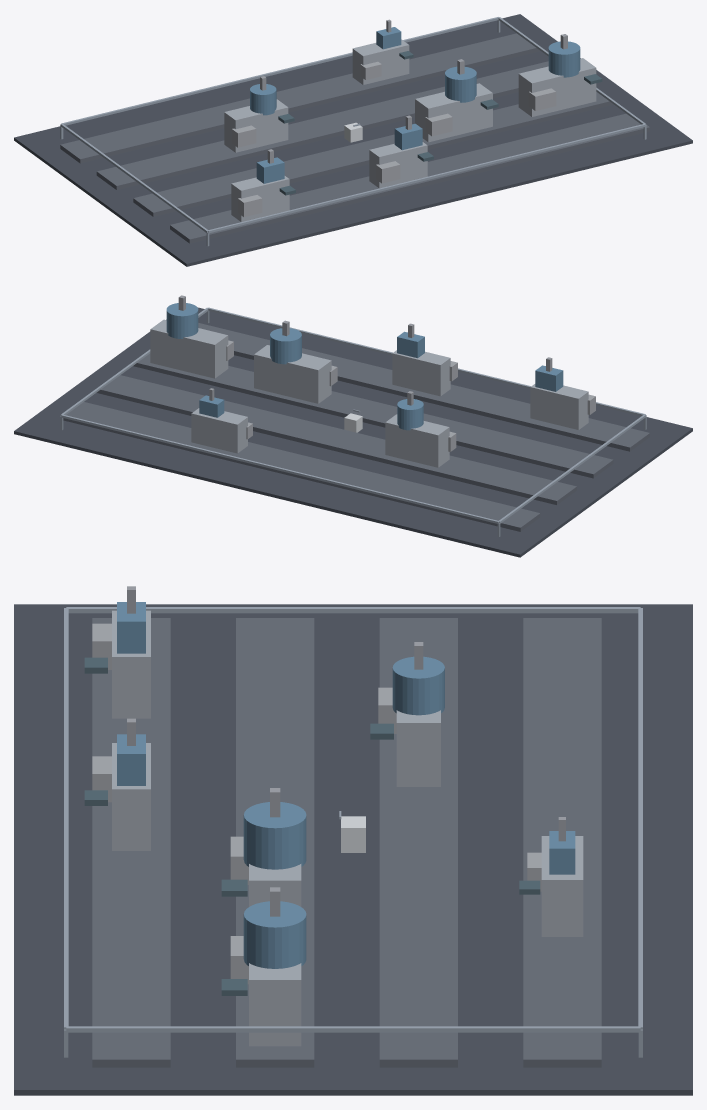
File: oxide-fab.glb
3 renders of one model, top to bottom at view 1: azimuth 30°, elevation 25°; view 2: azimuth 150°, elevation 25°; view 3: azimuth 270°, elevation 25°, orthographic. The views are drawn at different scales.
Parts seen in each view (by area): view 1: factory.floor, factory.band.4, factory.band.1, factory.band.3, factory.band.2, tool.LIT-02.body, tool.LIT-01.body, tool.ETC-01.body, factory.amhs.2, tool.CLN-02.body, tool.CLN-01.body, tool.MET-01.body (+14 smaller); view 2: factory.floor, factory.band.3, factory.band.4, factory.band.2, factory.band.1, tool.LIT-02.body, tool.LIT-01.body, tool.ETC-01.body, tool.CLN-01.body, tool.CLN-02.body, tool.MET-01.body, factory.amhs.0 (+9 smaller); view 3: factory.floor, factory.band.4, factory.band.3, factory.band.1, factory.band.2, factory.amhs.1, tool.LIT-02.body, tool.LIT-02.chamber, tool.LIT-01.chamber, factory.amhs.3, tool.MET-01.body, tool.ETC-01.body (+10 smaller).
Boxes of the visible parts, left/top/right/bottom form: factory.floor: left=14, top=14, right=692, bottom=266; factory.band.4: left=60, top=33, right=539, bottom=163; factory.band.1: left=170, top=113, right=649, bottom=243; factory.band.3: left=96, top=61, right=548, bottom=189; factory.band.2: left=133, top=92, right=613, bottom=216; tool.LIT-02.body: left=518, top=58, right=596, bottom=116; tool.LIT-01.body: left=415, top=83, right=492, bottom=142; tool.ETC-01.body: left=224, top=99, right=288, bottom=152; factory.amhs.2: left=208, top=124, right=645, bottom=233; tool.CLN-02.body: left=369, top=142, right=427, bottom=188; tool.CLN-01.body: left=231, top=176, right=289, bottom=221; tool.MET-01.body: left=352, top=39, right=409, bottom=84; factory.floor: left=14, top=307, right=692, bottom=557; factory.band.3: left=96, top=375, right=576, bottom=504; factory.band.4: left=60, top=402, right=540, bottom=531; factory.band.2: left=133, top=353, right=613, bottom=478; factory.band.1: left=198, top=323, right=649, bottom=451; tool.LIT-02.body: left=150, top=319, right=228, bottom=378; tool.LIT-01.body: left=254, top=345, right=331, bottom=403; tool.ETC-01.body: left=385, top=414, right=449, bottom=467; tool.CLN-01.body: left=530, top=384, right=588, bottom=429; tool.CLN-02.body: left=392, top=350, right=450, bottom=396; tool.MET-01.body: left=191, top=408, right=247, bottom=453; factory.amhs.0: left=61, top=414, right=498, bottom=523; factory.floor: left=14, top=604, right=692, bottom=1095; factory.band.4: left=523, top=618, right=601, bottom=1067; factory.band.3: left=379, top=618, right=457, bottom=1067; factory.band.1: left=92, top=618, right=170, bottom=1067; factory.band.2: left=236, top=618, right=314, bottom=1067; factory.amhs.1: left=66, top=1026, right=640, bottom=1032; tool.LIT-02.body: left=249, top=963, right=301, bottom=1046; tool.LIT-02.chamber: left=243, top=901, right=306, bottom=968; tool.LIT-01.chamber: left=243, top=802, right=306, bottom=869; factory.amhs.3: left=66, top=607, right=640, bottom=613; tool.MET-01.body: left=541, top=836, right=583, bottom=936; tool.ETC-01.body: left=396, top=710, right=440, bottom=786.
Bounding box in the file's own units: 44 × 6.2 × 26.
